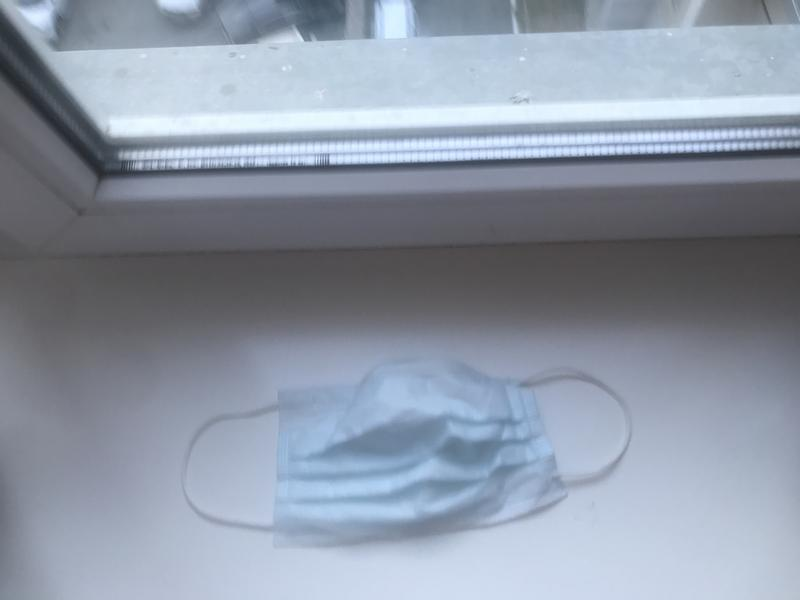medical_mask: (180, 359, 633, 532)
